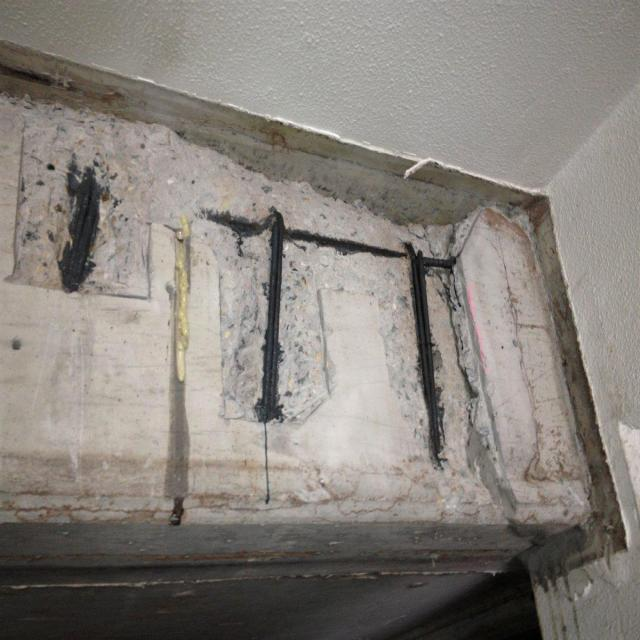Rebar: (192, 202, 475, 473), (23, 94, 148, 296)
diagonal crack: (480, 233, 509, 292)
horizontal crack: (0, 497, 301, 515), (337, 480, 413, 516)
